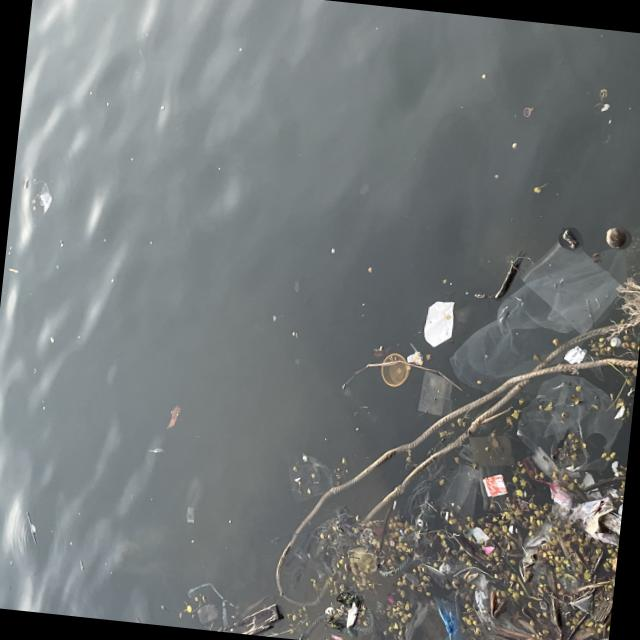foam: (424, 298, 457, 349)
